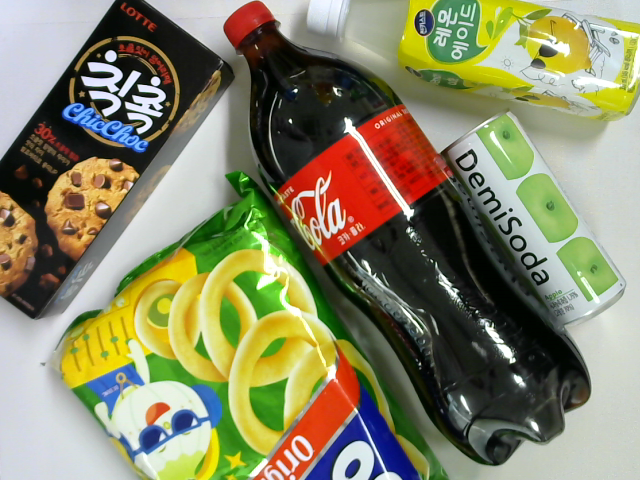Chicchok_Original_2400: (1, 1, 236, 320)
Coca_Cola_1.5L: (222, 1, 592, 468)
Demisoda_Apple_Can_250ml: (440, 108, 629, 327)
Oninon_Ring: (38, 173, 452, 480)
Sunkist_Lemonaid_Pet: (304, 1, 640, 122)
